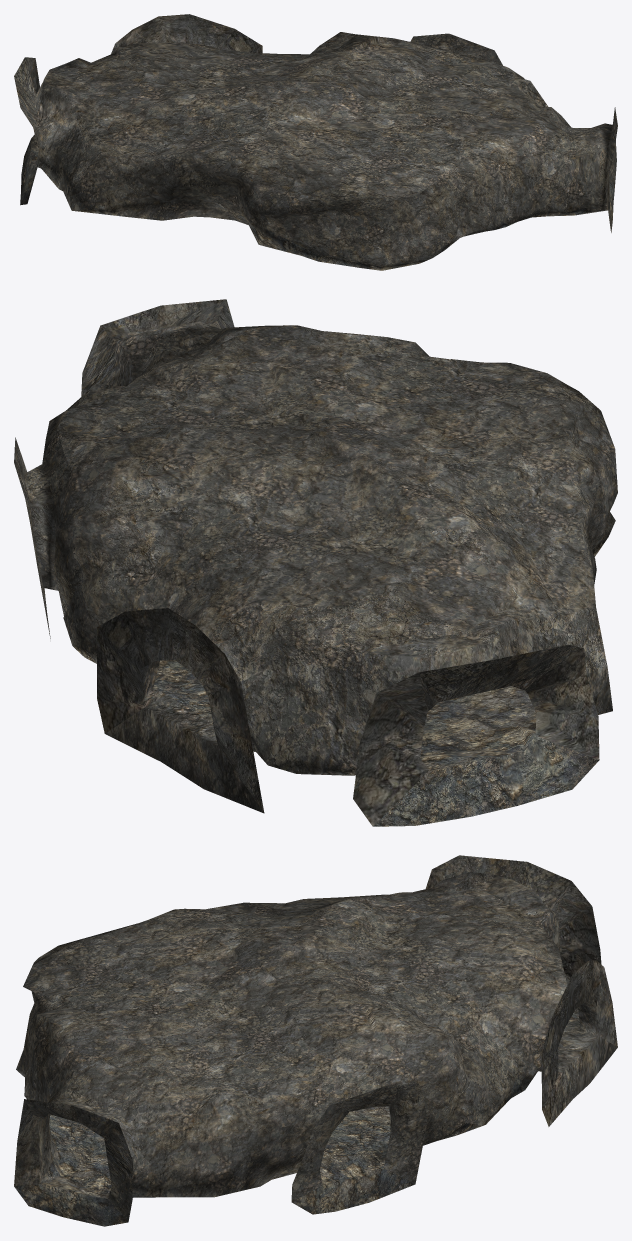
The model's file is Cave17.fbx.
3 views of the same model, one above another, from view 1: azimuth 30°, elevation 25°; view 2: azimuth 150°, elevation 25°; view 3: azimuth 270°, elevation 25° (orthographic). The views are drawn at different scales.
Parts seen in each view (by area): view 1: Cave17:Cave17:Cave17:Cave7:Cave17; view 2: Cave17:Cave17:Cave17:Cave7:Cave17; view 3: Cave17:Cave17:Cave17:Cave7:Cave17.
Boxes of the visible parts, x1=… form: Cave17:Cave17:Cave17:Cave7:Cave17: x1=14, y1=14, x2=617, y2=270; Cave17:Cave17:Cave17:Cave7:Cave17: x1=14, y1=299, x2=617, y2=826; Cave17:Cave17:Cave17:Cave7:Cave17: x1=14, y1=855, x2=617, y2=1226.
Size of the model in its own units: 350 by 94.05 by 330.
